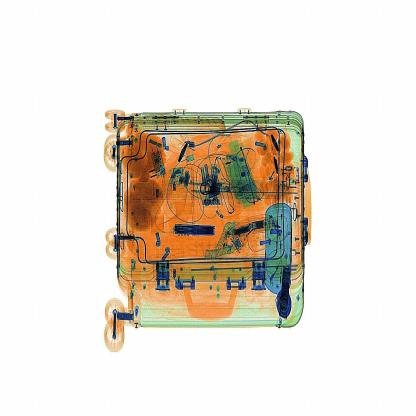scissors: (171, 220, 217, 240)
